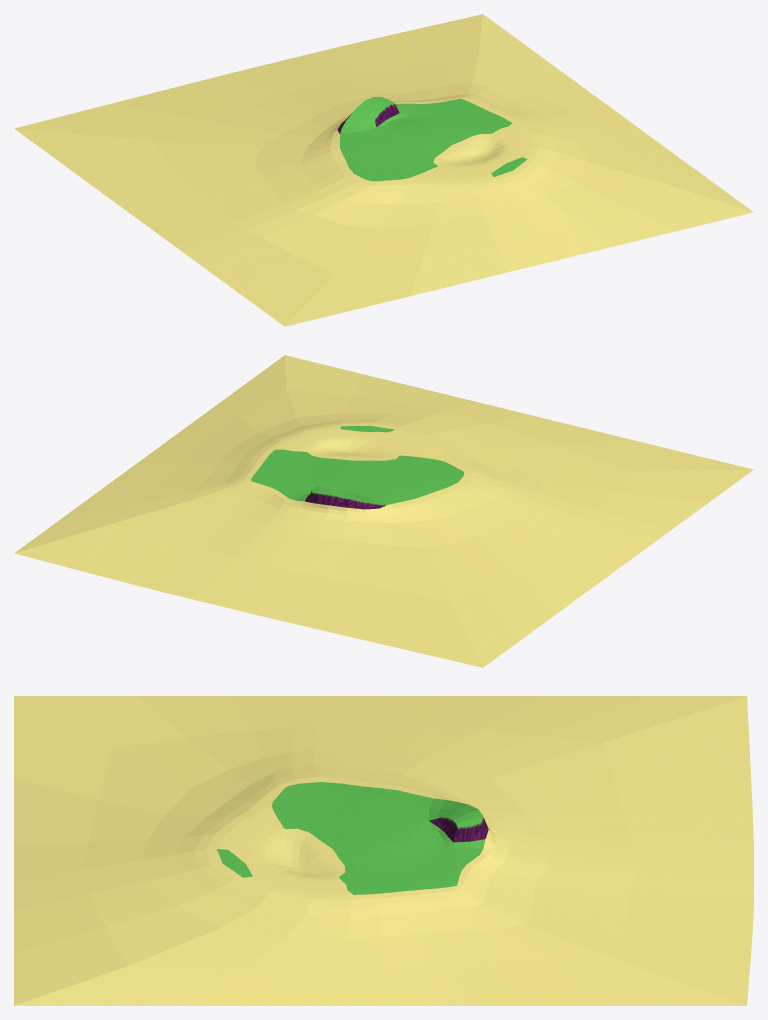
The model's file is ground_01.glb.
3 renders of one model, top to bottom at view 1: azimuth 30°, elevation 25°; view 2: azimuth 150°, elevation 25°; view 3: azimuth 270°, elevation 25°, orthographic. The views are drawn at different scales.
Visible parts, largest first — view 1: ground_00; view 2: ground_00; view 3: ground_00.
Part boxes in pixels (<box>): ground_00: <box>14,14,753,326</box>; ground_00: <box>14,355,753,667</box>; ground_00: <box>14,696,753,1005</box>.
Size of the model in its own units: 200 by 15.89 by 202.
Materials: 3 (3 with a texture image).
